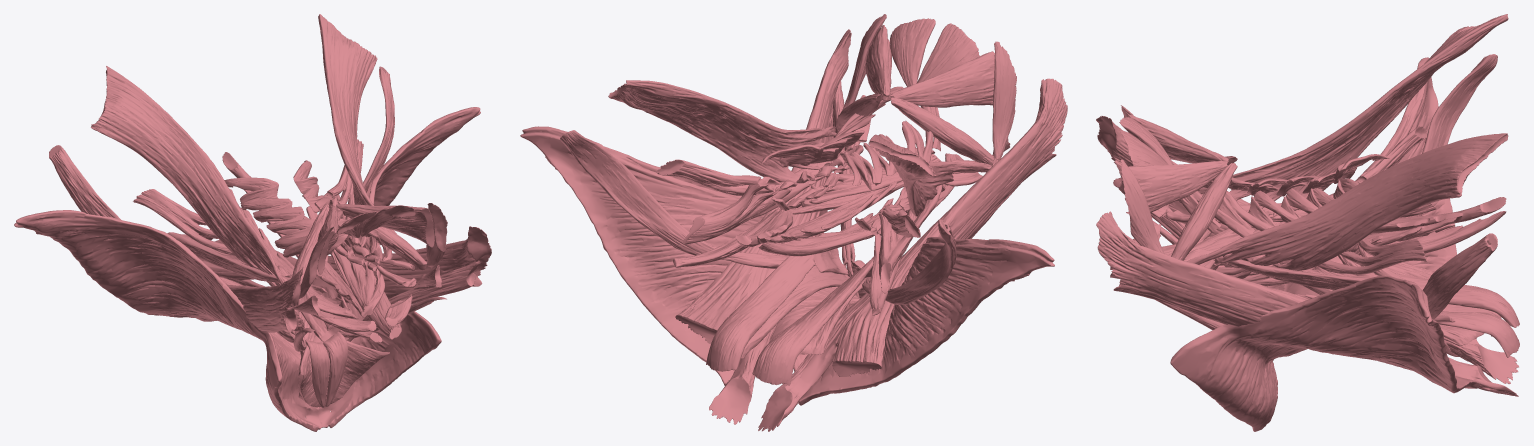
File: cou-muscles.glb
3 renders of one model, left to right at view 1: azimuth 30°, elevation 25°; view 2: azimuth 150°, elevation 25°; view 3: azimuth 270°, elevation 25°, orthographic. The views are drawn at different scales.
Visible parts, largest first — view 1: platysma_droit, elevateur_de_la_scapula_droit, platysma_gauche, elevateur_de_la_scapula_gauche, rotateur_cervical_droit, sterno_cleido_mastoidien_gauche, sterno_cleido_mastoidien_droit, omo_hyoidien_droit, scalene_posterieur_droit, grand_droit_posterieur_de_la_tete_gauche, long_du_cou_partie_oblique_superieure_gauche, scalene_moyen_droit (+24 smaller); view 2: platysma_gauche, sterno_cleido_mastoidien_droit, platysma_droit, elevateur_de_la_scapula_gauche, sterno_cleido_mastoidien_gauche, omo_hyoidien_gauche, sterno_thyroidien_gauche, sterno_thyroidien_droit, grand_droit_posterieur_de_la_tete_droit, elevateur_de_la_scapula_droit, scalene_moyen_gauche, rotateur_cervical_droit (+25 smaller); view 3: platysma_gauche, elevateur_de_la_scapula_gauche, sterno_cleido_mastoidien_gauche, elevateur_de_la_scapula_droit, rotateur_cervical_gauche, sterno_cleido_mastoidien_droit, platysma_droit, grand_droit_posterieur_de_la_tete_gauche, omo_hyoidien_gauche, omo_hyoidien_droit, scalene_moyen_gauche, scalene_posterieur_gauche (+19 smaller).
Boxes of the visible parts, box(x1,y1,x2,y2) form: platysma_droit: box(14, 210, 322, 431); elevateur_de_la_scapula_droit: box(91, 66, 287, 284); platysma_gauche: box(294, 107, 480, 427); elevateur_de_la_scapula_gauche: box(318, 14, 396, 260); rotateur_cervical_droit: box(224, 177, 350, 257); sterno_cleido_mastoidien_gauche: box(327, 226, 491, 303); sterno_cleido_mastoidien_droit: box(227, 267, 303, 332); omo_hyoidien_droit: box(49, 145, 294, 342); scalene_posterieur_droit: box(133, 189, 234, 255); grand_droit_posterieur_de_la_tete_gauche: box(336, 204, 434, 247); long_du_cou_partie_oblique_superieure_gauche: box(333, 249, 384, 315); scalene_moyen_droit: box(167, 229, 290, 282); platysma_gauche: box(520, 126, 860, 385); sterno_cleido_mastoidien_droit: box(758, 78, 1067, 431); platysma_droit: box(793, 237, 1054, 405); elevateur_de_la_scapula_gauche: box(608, 80, 846, 184); sterno_cleido_mastoidien_gauche: box(675, 29, 851, 424); omo_hyoidien_gauche: box(560, 130, 814, 268); sterno_thyroidien_gauche: box(706, 235, 815, 371); sterno_thyroidien_droit: box(752, 256, 873, 385); grand_droit_posterieur_de_la_tete_droit: box(889, 51, 994, 107); elevateur_de_la_scapula_droit: box(868, 134, 991, 216); scalene_moyen_gauche: box(682, 153, 839, 244); rotateur_cervical_droit: box(840, 106, 940, 189); platysma_gauche: box(1170, 276, 1480, 431); elevateur_de_la_scapula_gauche: box(1187, 133, 1508, 270); sterno_cleido_mastoidien_gauche: box(1096, 211, 1518, 396); elevateur_de_la_scapula_droit: box(1197, 14, 1508, 218); rotateur_cervical_gauche: box(1180, 178, 1359, 237); sterno_cleido_mastoidien_droit: box(1096, 116, 1518, 383); platysma_droit: box(1224, 57, 1478, 390); grand_droit_posterieur_de_la_tete_gauche: box(1128, 160, 1228, 212); omo_hyoidien_gauche: box(1423, 233, 1497, 319); omo_hyoidien_droit: box(1364, 54, 1497, 266); scalene_moyen_gauche: box(1224, 242, 1422, 290); scalene_posterieur_gauche: box(1317, 239, 1426, 274).
Bounding box in the file's own units: 273 × 173 × 188.
